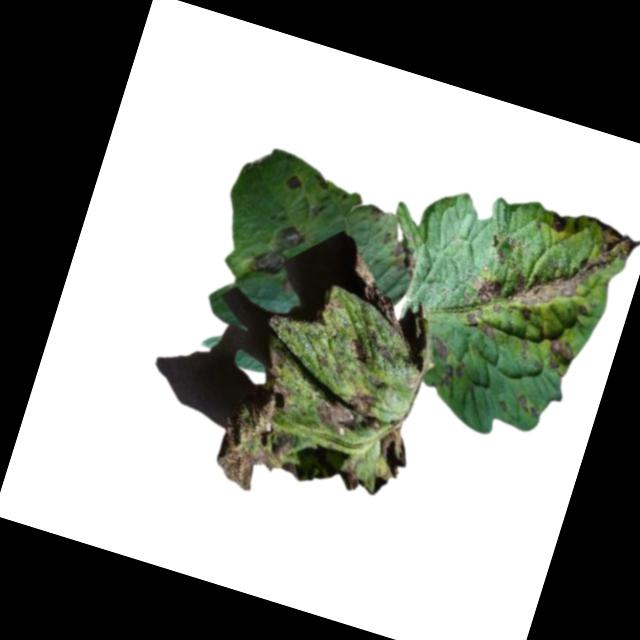Early_blight: (467, 189, 637, 343), (210, 339, 321, 499), (341, 254, 424, 338), (308, 376, 387, 443), (248, 218, 304, 281), (367, 424, 418, 482), (423, 336, 467, 387), (541, 336, 579, 376), (335, 451, 368, 495), (459, 307, 500, 340), (346, 335, 374, 366), (374, 341, 400, 366), (283, 172, 303, 192)
